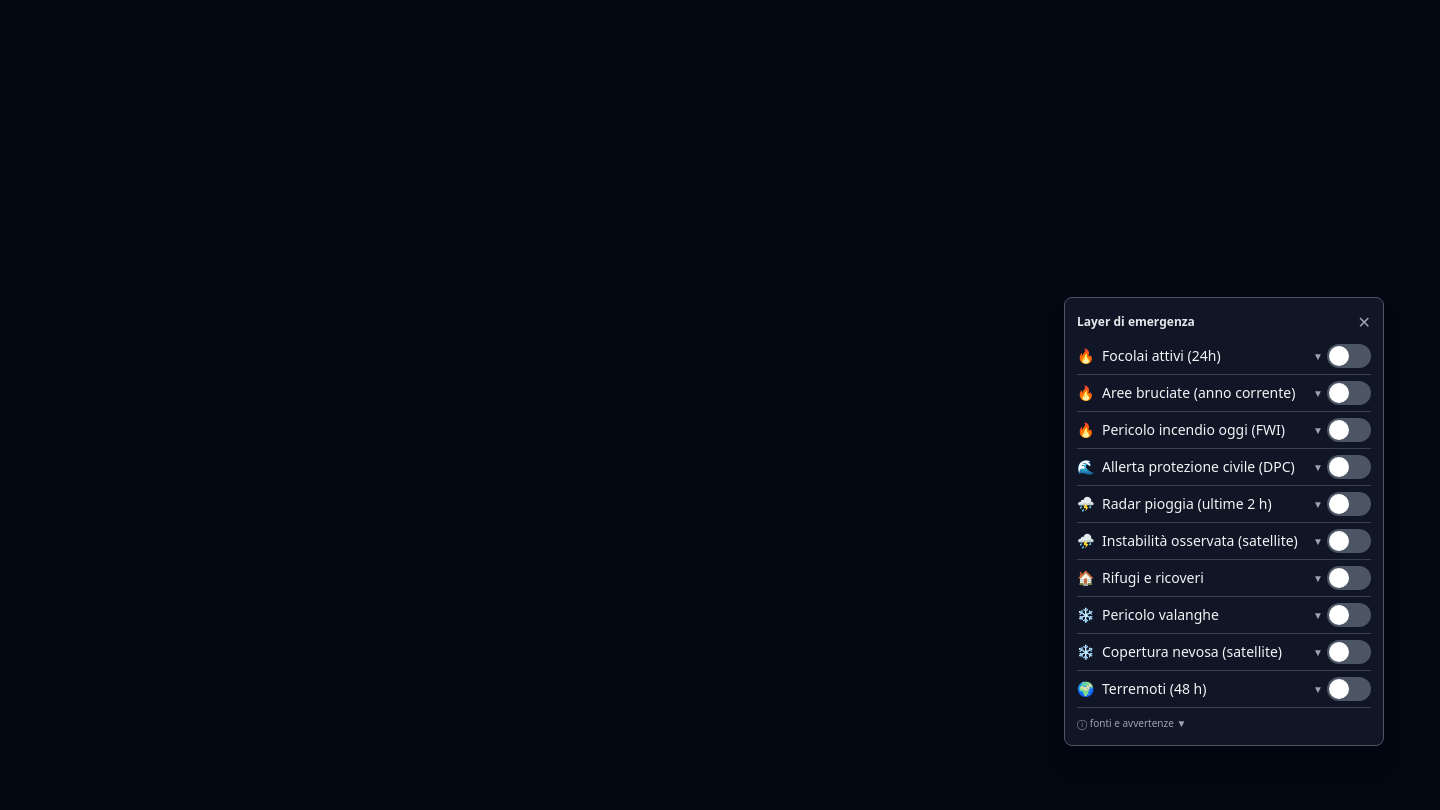
Scenario: pannello layer compatto › la riga dichiara se e aperta
Click the button "🔥 Focolai attivi (24h) ▼" at (1200, 356), box [1077,338,1323,374]
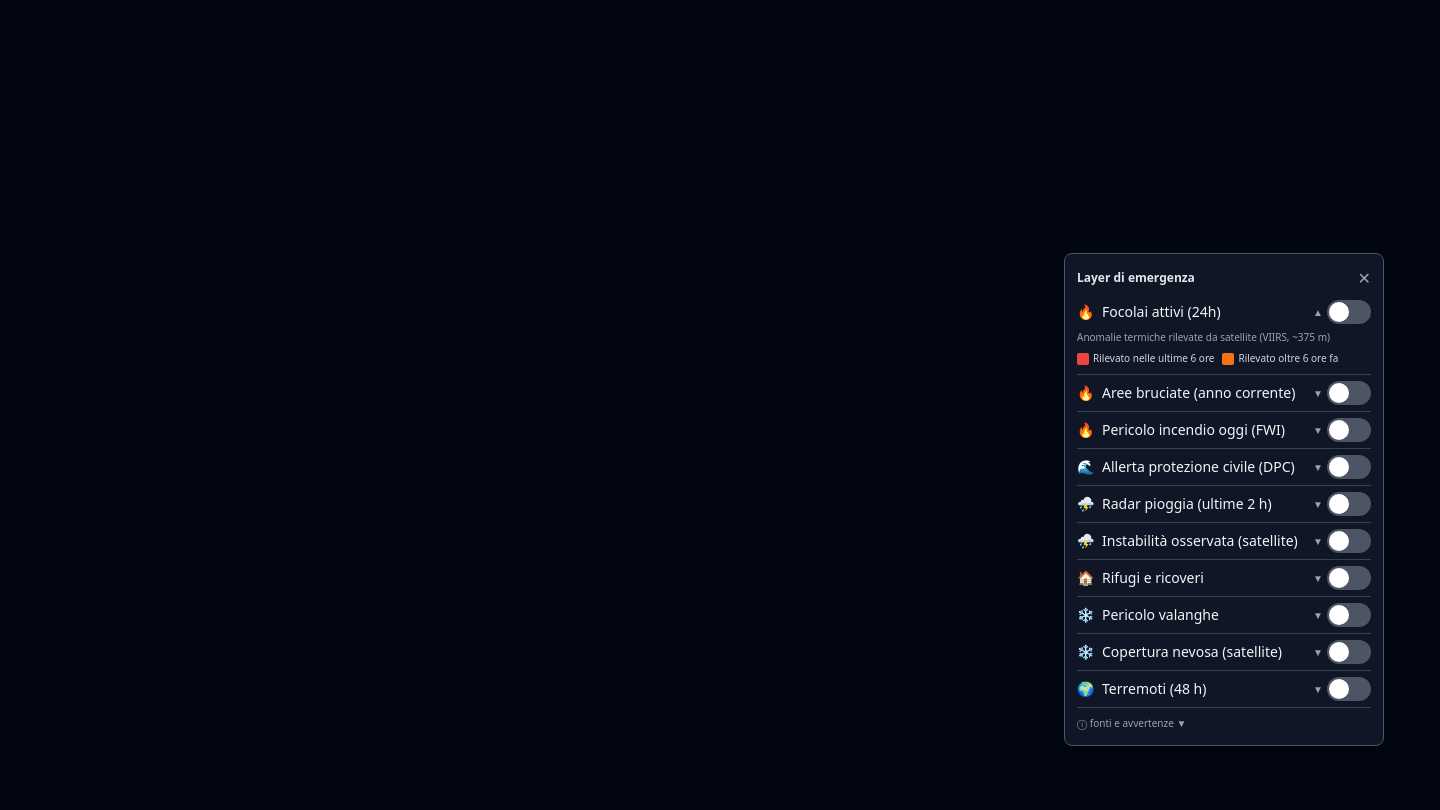
Expected: the button "🔥 Focolai attivi (24h) ▲" is expanded, [1077,294,1323,330]
